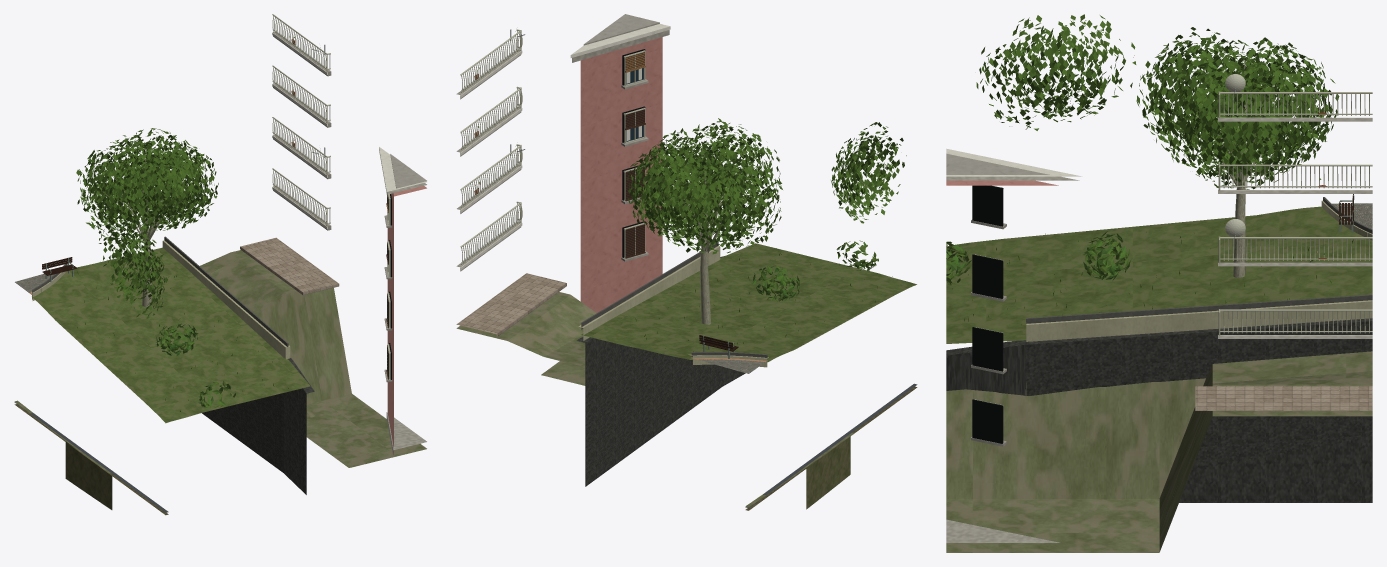
3 renders of one model, left to right at view 1: azimuth 30°, elevation 25°; view 2: azimuth 150°, elevation 25°; view 3: azimuth 270°, elevation 25°, orthographic. The views are drawn at different scales.
Size of the model in its own units: 16 by 21.93 by 16.
30 materials, 20 textured.
